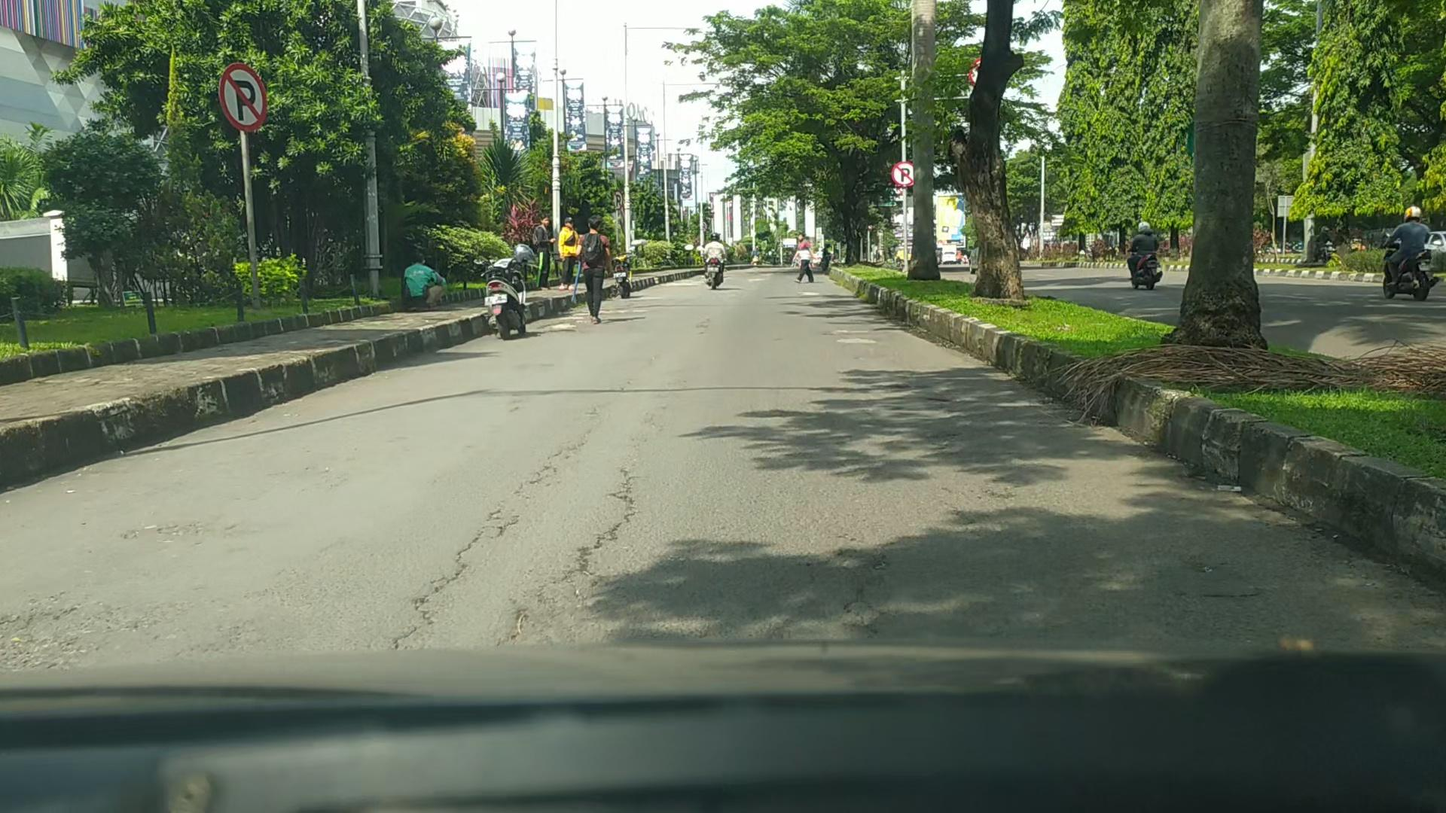pothole: (120, 516, 206, 542)
